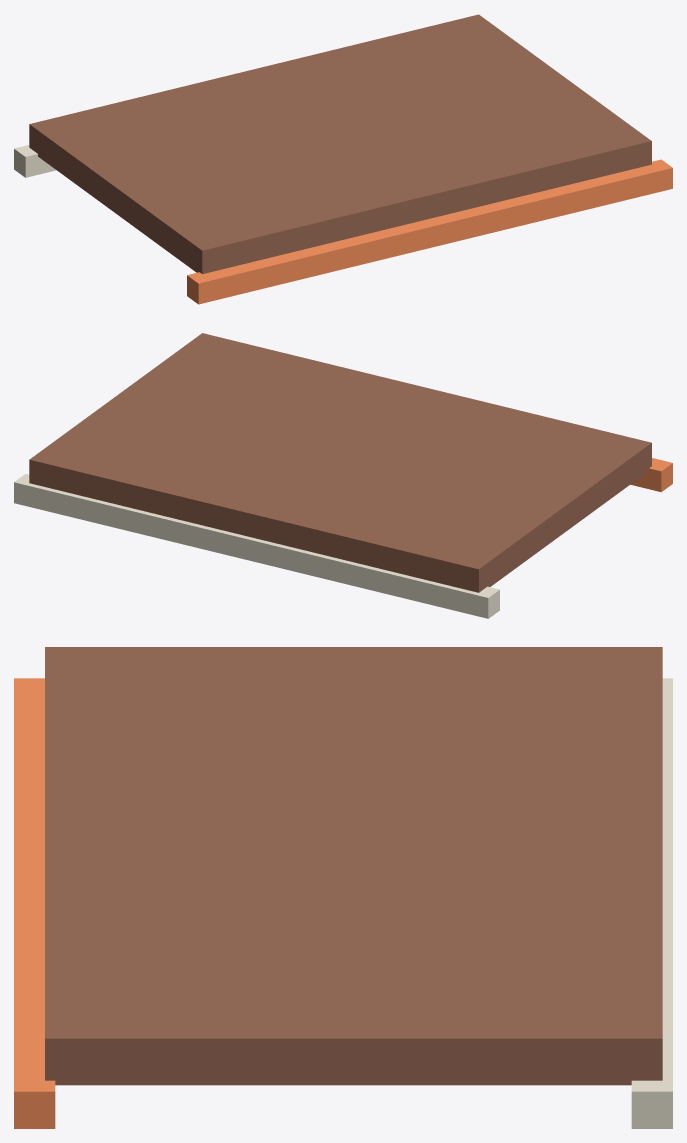
The model's file is 01_world_facade.glb.
The picture shows the model from 3 angles, top to bottom: view 1: azimuth 30°, elevation 25°; view 2: azimuth 150°, elevation 25°; view 3: azimuth 270°, elevation 25°; orthographic projection. The views are drawn at different scales.
Visible parts, largest first — view 1: wall_panel_upgrade, trim_top, trim_bottom; view 2: wall_panel_upgrade, trim_bottom, trim_top; view 3: wall_panel_upgrade, trim_top, trim_bottom.
Part boxes in pixels (x1,y1,x2,y2): wall_panel_upgrade: [29, 14, 651, 273]; trim_top: [187, 159, 672, 304]; trim_bottom: [14, 145, 56, 177]; wall_panel_upgrade: [29, 333, 651, 592]; trim_bottom: [14, 474, 499, 618]; trim_top: [630, 458, 672, 492]; wall_panel_upgrade: [45, 647, 662, 1085]; trim_top: [14, 678, 55, 1128]; trim_bottom: [631, 678, 672, 1128].
Size of the model in its own units: 1.9 by 0.17 by 1.28.
